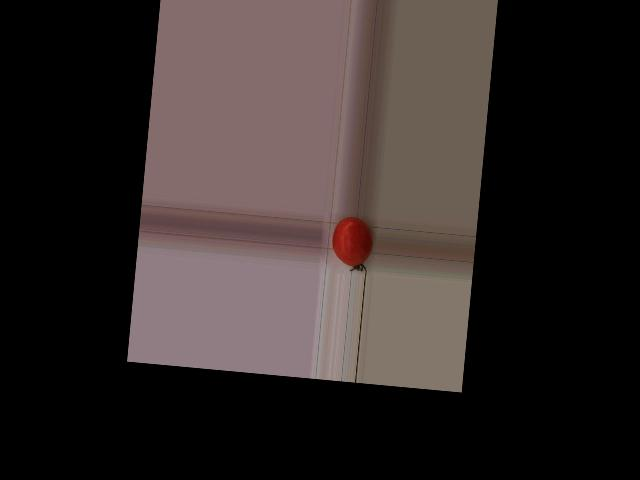tomato: (330, 215, 374, 268)
